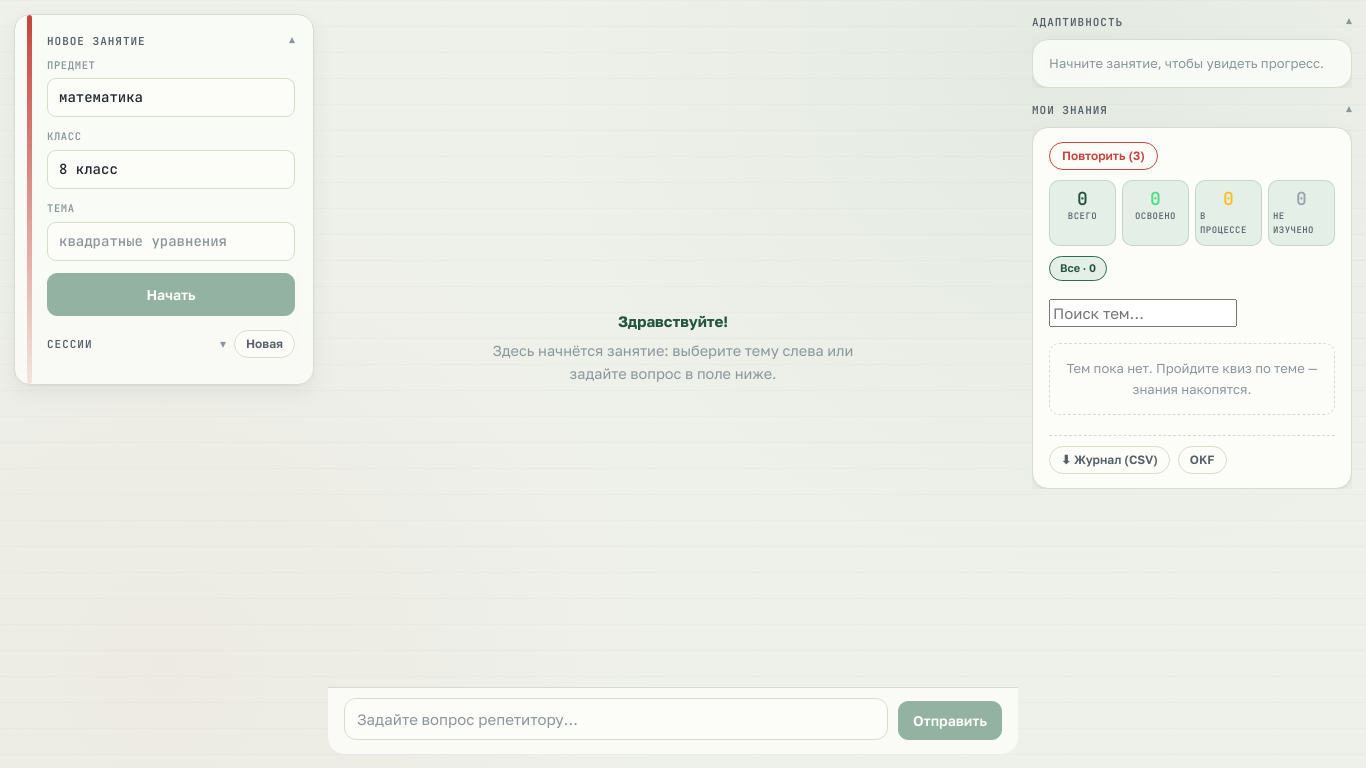
Scenario: <App/> session lifecycle (баги привязки сессий) › mastery.gate system event renders a dismissible banner
The width and height of the screenshot is (1366, 768).
Type "Тема A" into the field with placeholder "квадратные уравнения" at (171, 241), box [47,222,295,261]
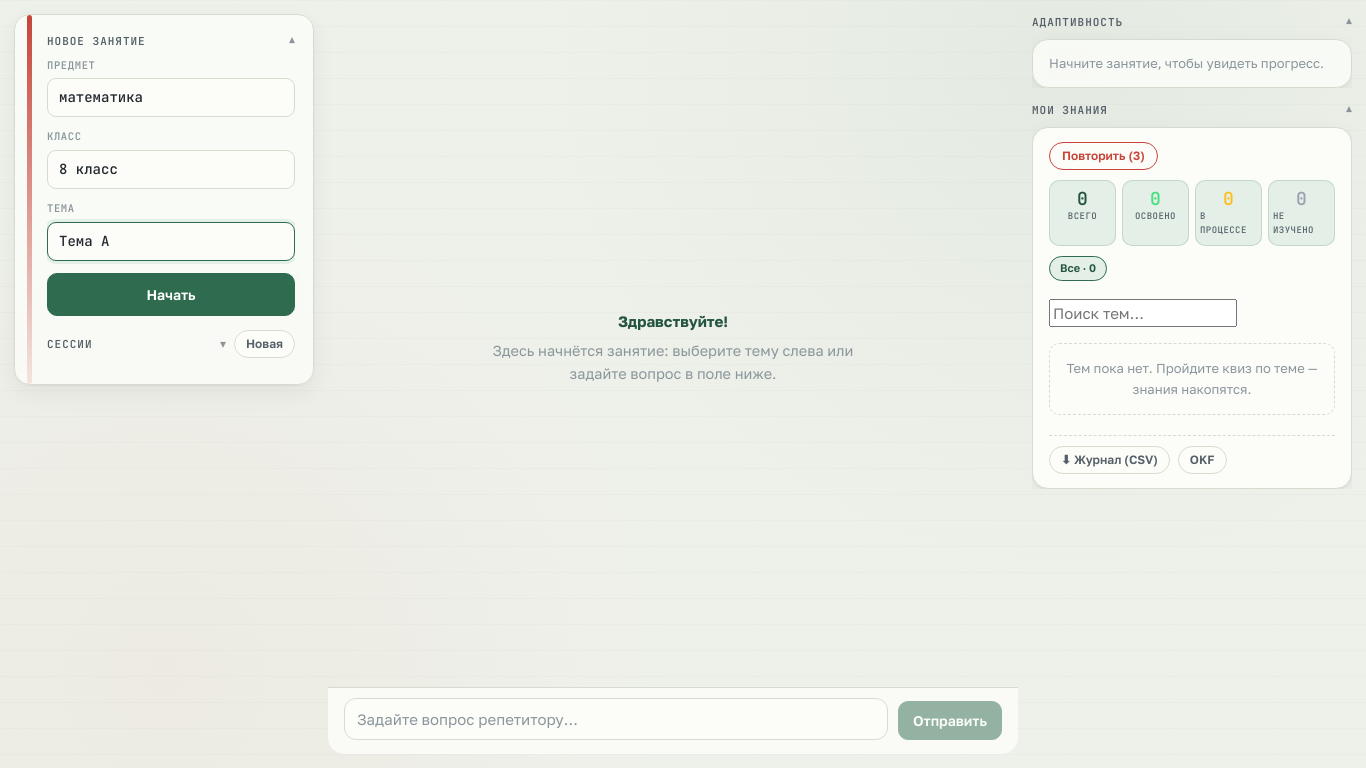
Click the button "Начать" at (171, 294), box [47,273,295,316]
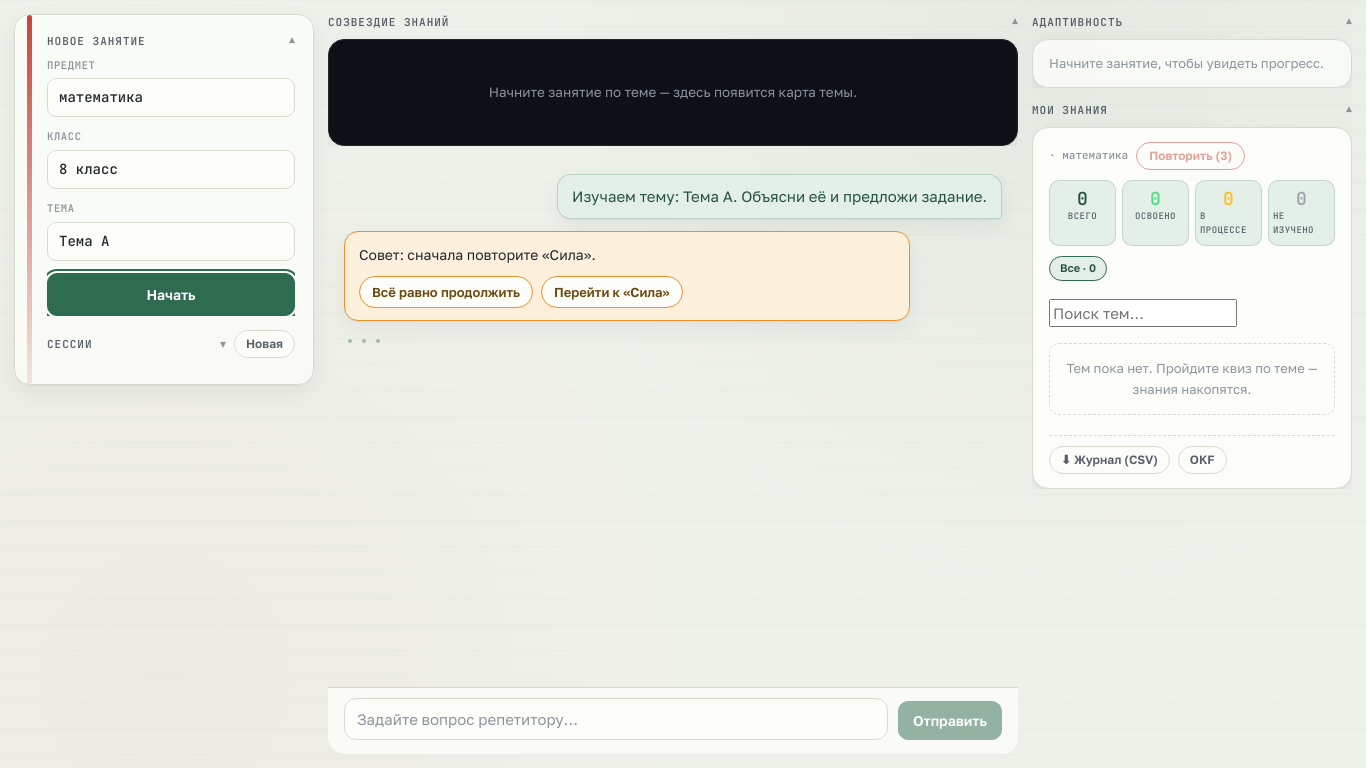
Check: the text "Совет: сначала повторите «Сила»." is shown, box [359,246,596,263]
Click the button "Всё равно продолжить" at (446, 292), box [359,276,533,308]
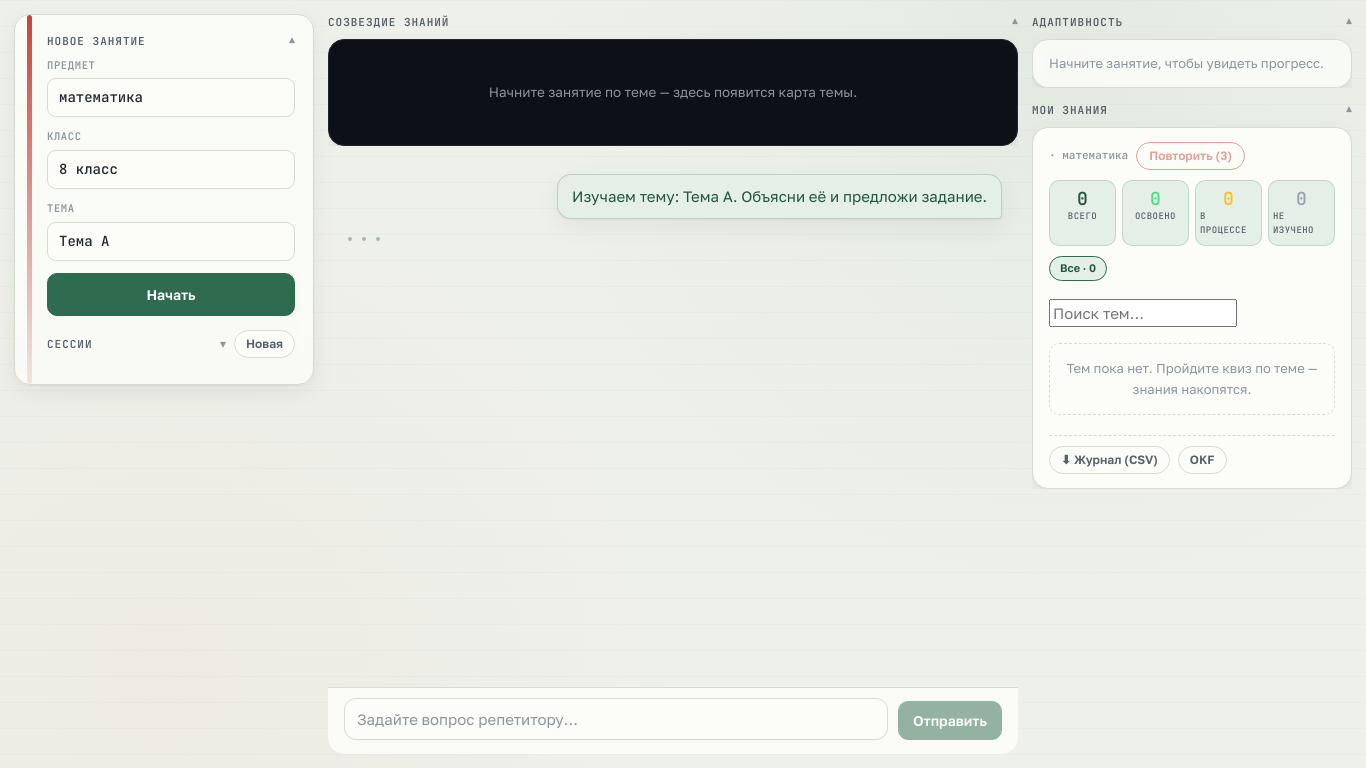
Check: the text "Совет: сначала повторите «Сила»" is gone
